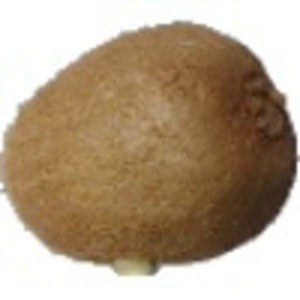kiwi: (1, 20, 300, 278)
